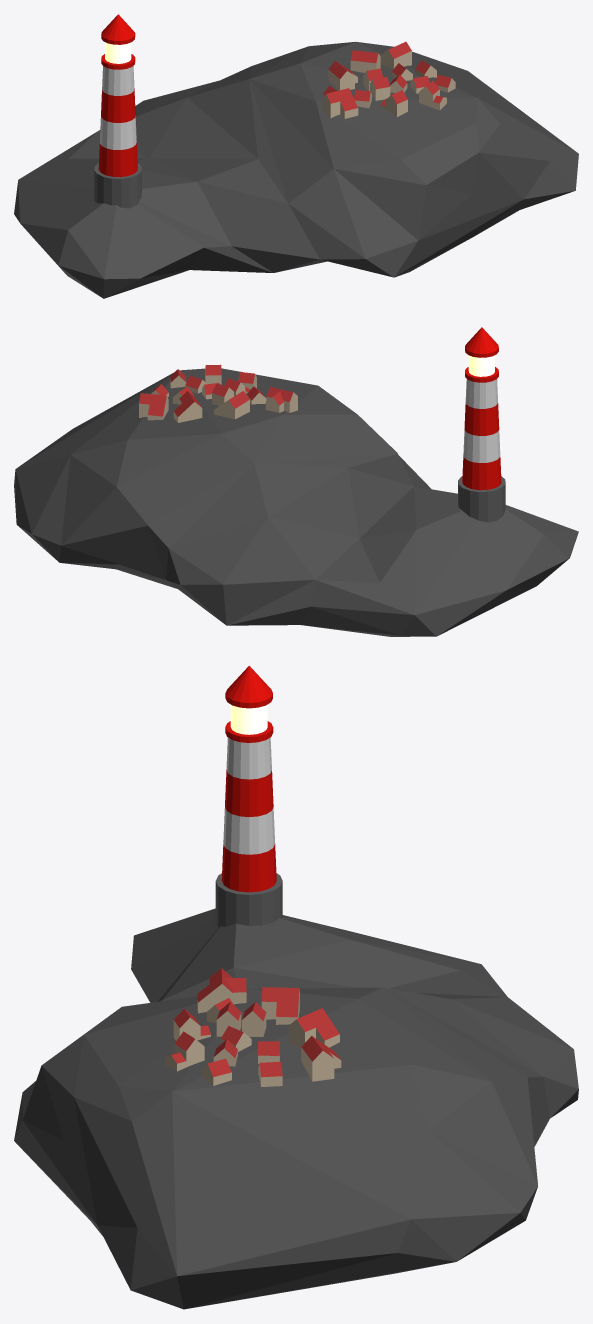
File: lighthouse.glb
3 views of the same model, one above another, from view 1: azimuth 30°, elevation 25°; view 2: azimuth 150°, elevation 25°; view 3: azimuth 270°, elevation 25° (orthographic). The views are drawn at different scales.
Parts seen in each view (by area): view 1: base rocks, lighthouse, 3.003, 3.002, 3.001, 3, 1.002, 1.001, Cube; view 2: base rocks, lighthouse, 3.002, 3, 3.001, 3.003; view 3: base rocks, lighthouse, 3, 3.001, 3.002, 1.002, 3.003.
Part boxes in pixels (bbox=[...]): base rocks: bbox=[14, 41, 578, 298]; lighthouse: bbox=[94, 14, 141, 208]; 3.003: bbox=[322, 88, 358, 118]; 3.002: bbox=[380, 41, 411, 69]; 3.001: bbox=[328, 61, 357, 90]; 3: bbox=[350, 50, 380, 72]; 1.002: bbox=[419, 81, 446, 110]; 1.001: bbox=[380, 90, 407, 116]; Cube: bbox=[370, 77, 390, 100]; base rocks: bbox=[14, 368, 578, 636]; lighthouse: bbox=[458, 327, 505, 522]; 3.002: bbox=[139, 393, 168, 420]; 3: bbox=[173, 391, 202, 422]; 3.001: bbox=[214, 391, 249, 419]; 3.003: bbox=[266, 387, 297, 412]; base rocks: bbox=[14, 908, 578, 1309]; lighthouse: bbox=[215, 665, 282, 927]; 3: bbox=[288, 1008, 339, 1048]; 3.001: bbox=[261, 987, 299, 1024]; 3.002: bbox=[301, 1036, 341, 1081]; 1.002: bbox=[165, 1031, 204, 1071]; 3.003: bbox=[197, 968, 232, 1013].
Size of what is drawn, in the model's own units: 15.39 by 7.67 by 10.65.
